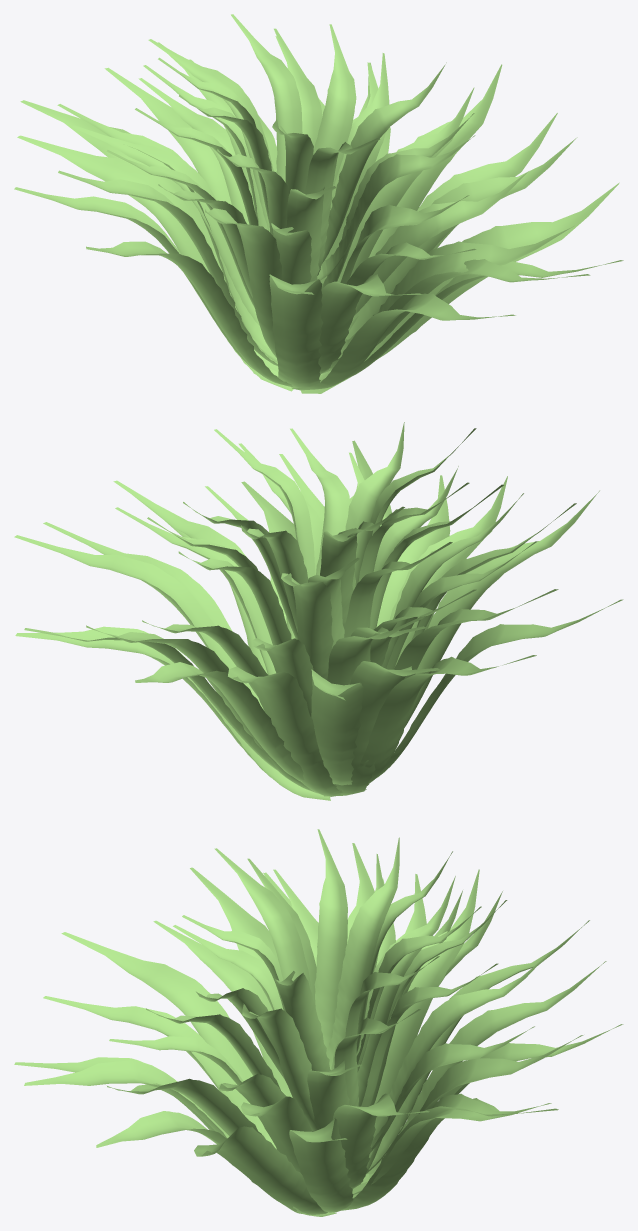
Rendered from agave cactus.fbx.
3 views of the same model, one above another, from view 1: azimuth 30°, elevation 25°; view 2: azimuth 150°, elevation 25°; view 3: azimuth 270°, elevation 25° (orthographic). The views are drawn at different scales.
Visible parts, largest first — view 1: agave; view 2: agave; view 3: agave.
Boxes of the visible parts, x1=… form: agave: x1=14, y1=14, x2=623, y2=393; agave: x1=14, y1=422, x2=623, y2=800; agave: x1=14, y1=829, x2=623, y2=1216.
Size of the model in its own units: 295 by 182 by 308.
